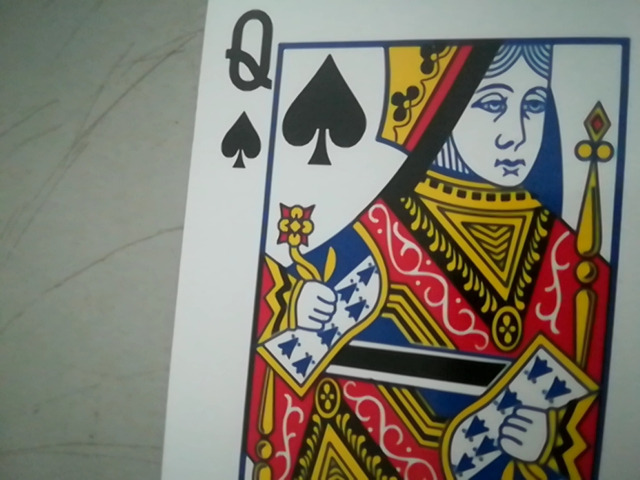ht q: (209, 3, 283, 175)
